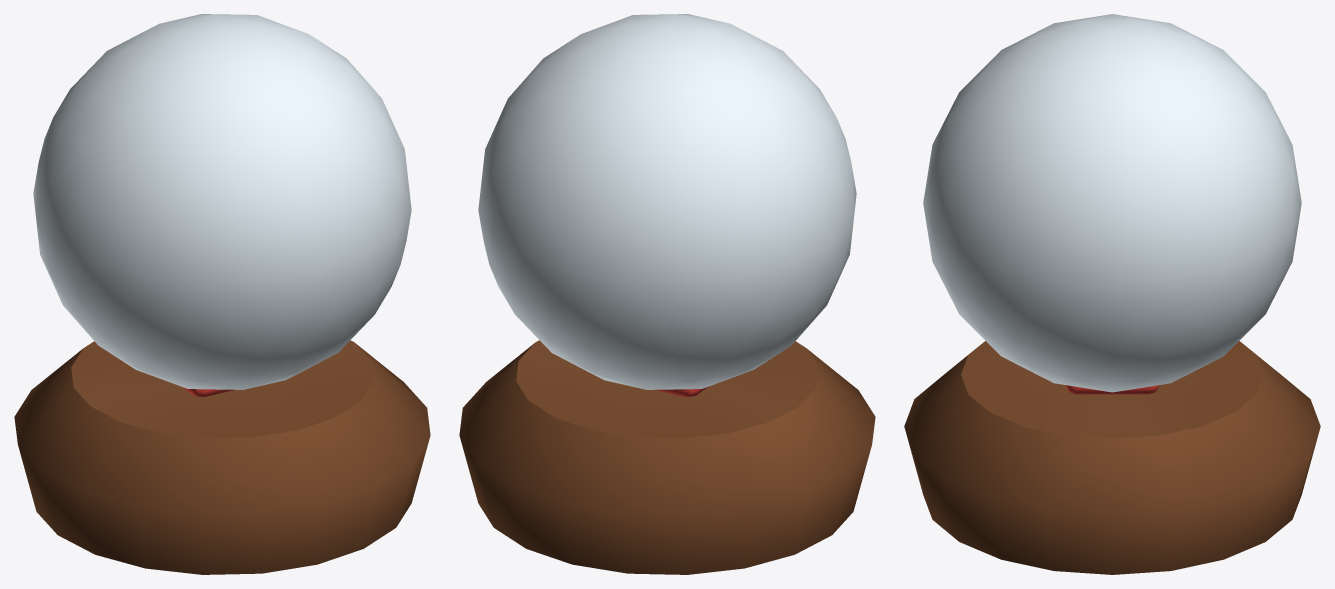
The model's file is furn_snow_globe.glb.
3 views of the same model, side by side, from view 1: azimuth 30°, elevation 25°; view 2: azimuth 150°, elevation 25°; view 3: azimuth 270°, elevation 25° (orthographic).
Visible parts, largest first — view 1: furn_snow_globe_clear, furn_snow_globe_main; view 2: furn_snow_globe_clear, furn_snow_globe_main; view 3: furn_snow_globe_clear, furn_snow_globe_main.
Part boxes in pixels (x1=…): furn_snow_globe_clear: x1=33, y1=14, x2=411, y2=389; furn_snow_globe_main: x1=14, y1=340, x2=430, y2=574; furn_snow_globe_clear: x1=478, y1=14, x2=856, y2=389; furn_snow_globe_main: x1=459, y1=340, x2=875, y2=574; furn_snow_globe_clear: x1=923, y1=14, x2=1301, y2=392; furn_snow_globe_main: x1=904, y1=341, x2=1320, y2=574.
Bounding box in the file's own units: 0.22 × 0.27 × 0.22.
